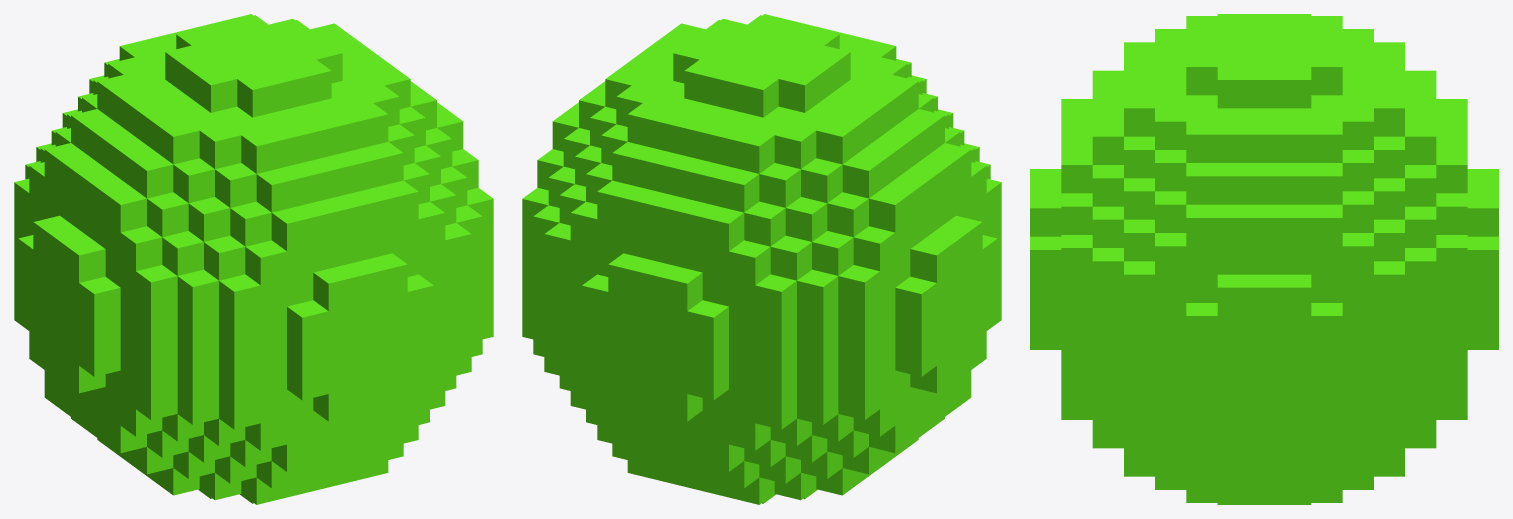
The model's file is Green Ball.fbx.
The picture shows the model from 3 angles, left to right: view 1: azimuth 30°, elevation 25°; view 2: azimuth 150°, elevation 25°; view 3: azimuth 270°, elevation 25°; orthographic projection. The views are drawn at different scales.
Parts seen in each view (by area): view 1: Untitled.001; view 2: Untitled.001; view 3: Untitled.001.
Part boxes in pixels (box(x1,y1,x2,y2)): Untitled.001: box(14, 14, 493, 504); Untitled.001: box(522, 14, 1001, 504); Untitled.001: box(1030, 14, 1498, 504).
Bounding box in the file's own units: 150 × 150 × 150.
